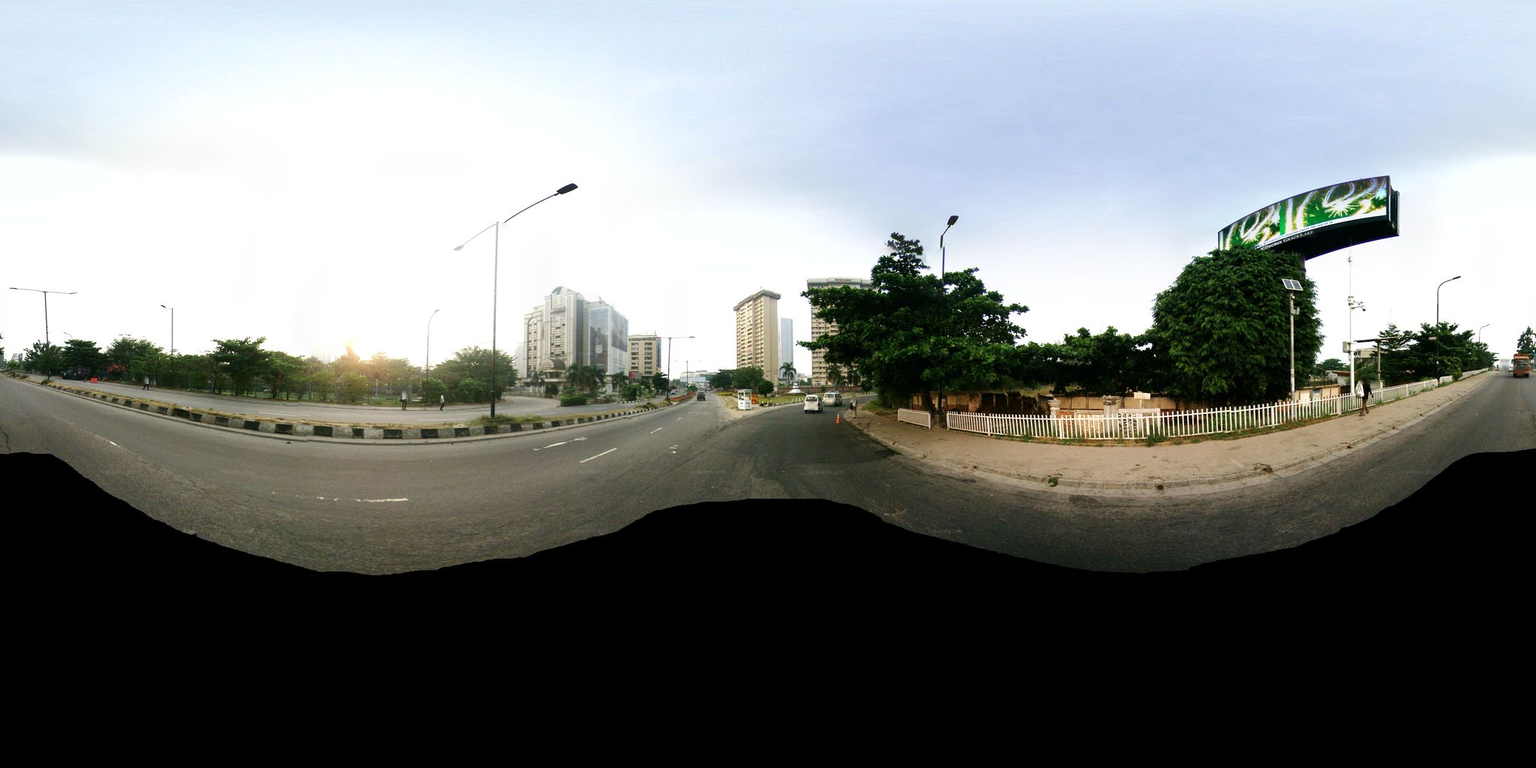Billboard: (1217, 176, 1400, 260)
